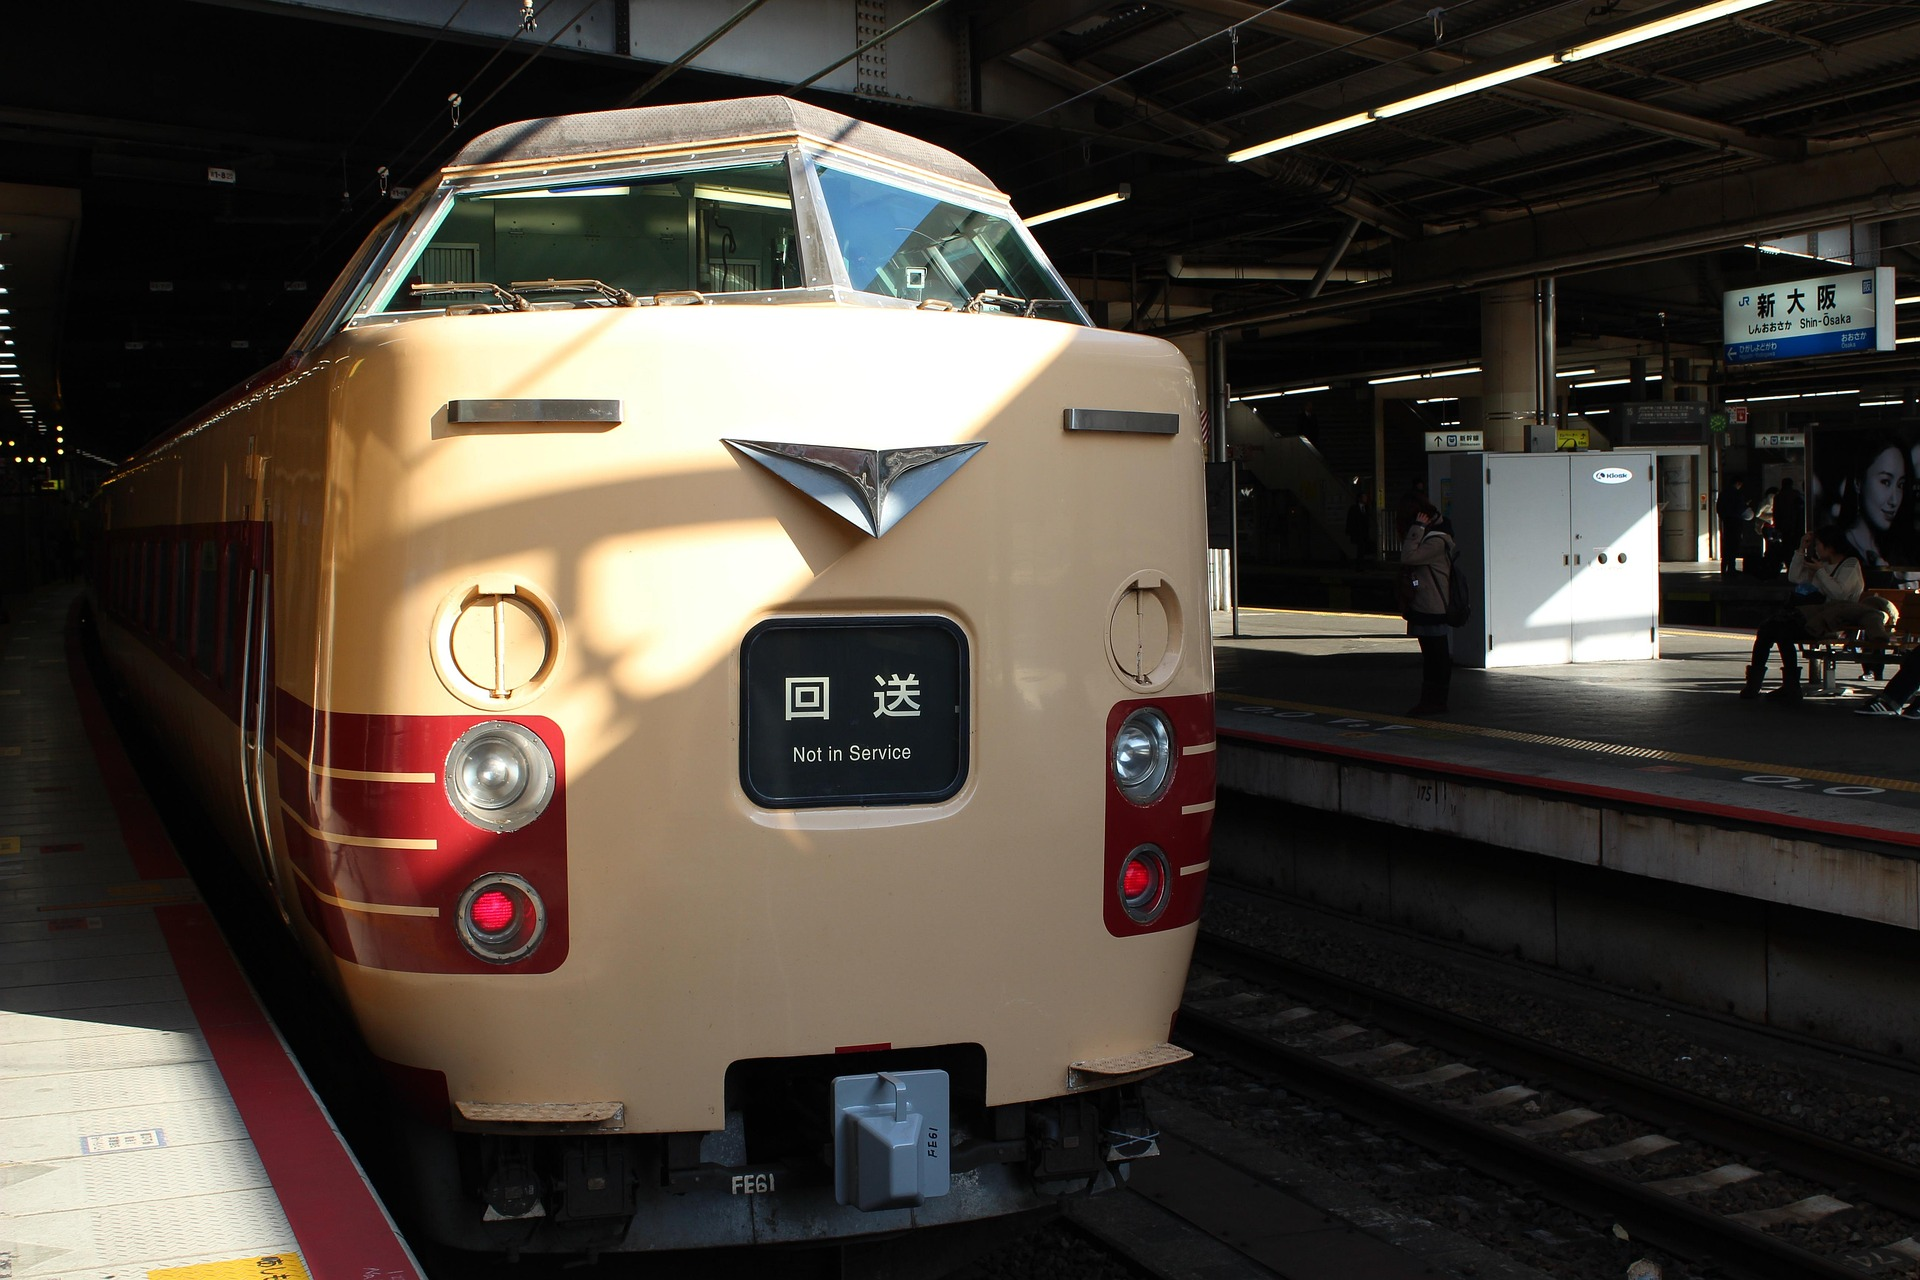train1: (80, 83, 1230, 1261)
